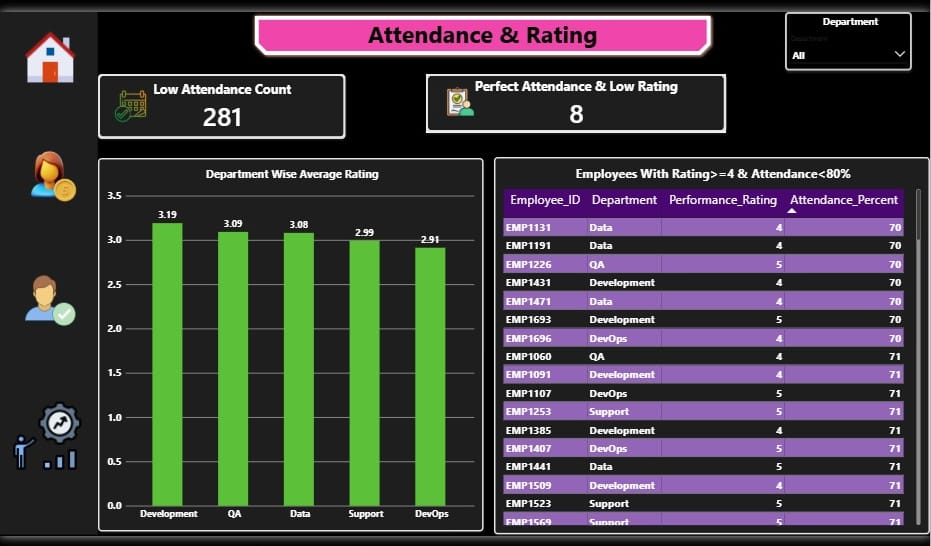

The page's visual inventory and layout, read from the dashboard file:
{"tool":"powerbi","page":{"name":"emp_rating","canvas":[1920,1080],"ordinal":2},"visuals":[{"type":"shape","box":[0,0,201.7,1079.1],"z":0},{"type":"shape","box":[519.2,0,956.8,96.5],"z":1000},{"type":"image","box":[27.9,27.9,150.2,126.6],"z":2000},{"type":"image","box":[27.9,278.9,160.9,113.7],"z":3000},{"type":"image","box":[36.5,540.6,130.9,107.3],"z":4000},{"type":"image","box":[23.6,787.3,150.2,175.9],"z":5000},{"type":"slicer","title":"Department ","fields":{"Values":["employee_db employee_performance.Department"]},"box":[1620.2,0,262,120.9],"z":6000},{"type":"cardVisual","fields":{"Data":["employee_db employee_performance.Low Attendance Count"]},"box":[201.6,128.5,511.5,133.5],"z":7000,"group":"g1"},{"type":"group","id":"g1","title":"Group 1","box":[201.6,128.5,511.5,133.5],"z":7000},{"type":"cardVisual","title":"Perfect Attendance & Low Rating","fields":{"Data":["employee_db employee_performance.Perfect_Att_Low_Rating"]},"box":[879.4,128.5,619.8,120.9],"z":7000,"group":"g2"},{"type":"image","box":[220.5,161.9,96.6,66.8],"z":8000,"group":"g1"},{"type":"clusteredColumnChart","title":"Department Wise Average Rating","fields":{"Category":["employee_db employee_performance.Department"],"Y":["Avg(employee_db employee_performance.Performance_Rating)"]},"box":[201.6,302.4,796.2,771],"z":8000},{"type":"tableEx","title":"Employees With Rating>=4 & Attendance<80%","fields":{"Values":["employee_db employee_performance.Employee_ID","employee_db employee_performance.Department","employee_db employee_performance.Performance_Rating","employee_db employee_performance.Attendance_Percent"]},"box":[1020.5,299.8,899.5,778.6],"z":9000},{"type":"group","id":"g2","title":"Group 1","box":[879.4,128.5,619.8,120.9],"z":10000,"group":"g3"},{"type":"image","box":[899.8,153.7,101.8,63],"z":10501,"group":"g3"},{"type":"group","id":"g3","title":"Group 2","box":[879.4,128.5,619.8,120.9],"z":10502}]}

Visuals, with their boxes in screenshot pixels (x1, y1, x2, y2):
shape: left=0, top=12, right=96, bottom=528
shape: left=248, top=12, right=706, bottom=58
image: left=13, top=25, right=85, bottom=86
image: left=13, top=145, right=90, bottom=200
image: left=17, top=271, right=80, bottom=322
image: left=11, top=389, right=83, bottom=473
"Department " slicer: left=775, top=12, right=900, bottom=70
cardVisual - employee_db employee_performance.Low Attendance Count: left=96, top=74, right=341, bottom=137
"Group 1" group: left=96, top=74, right=341, bottom=137
"Perfect Attendance & Low Rating" cardVisual: left=421, top=74, right=717, bottom=131
image: left=105, top=90, right=152, bottom=121
"Department Wise Average Rating" clusteredColumnChart: left=96, top=157, right=477, bottom=525
"Employees With Rating>=4 & Attendance<80%" tableEx: left=488, top=155, right=918, bottom=528
"Group 1" group: left=421, top=74, right=717, bottom=131
image: left=430, top=86, right=479, bottom=116
"Group 2" group: left=421, top=74, right=717, bottom=131
